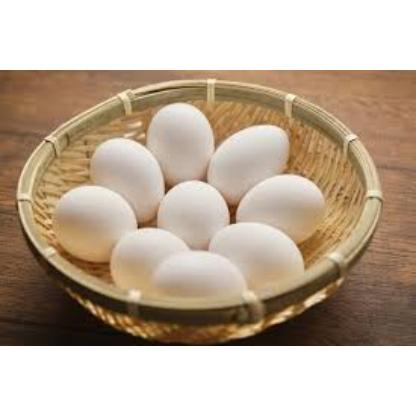egg: (203, 218, 314, 297), (205, 121, 292, 210), (86, 134, 168, 226), (52, 183, 145, 263), (139, 98, 219, 190), (103, 224, 194, 302), (233, 172, 327, 243), (151, 176, 234, 253), (147, 248, 244, 309)
